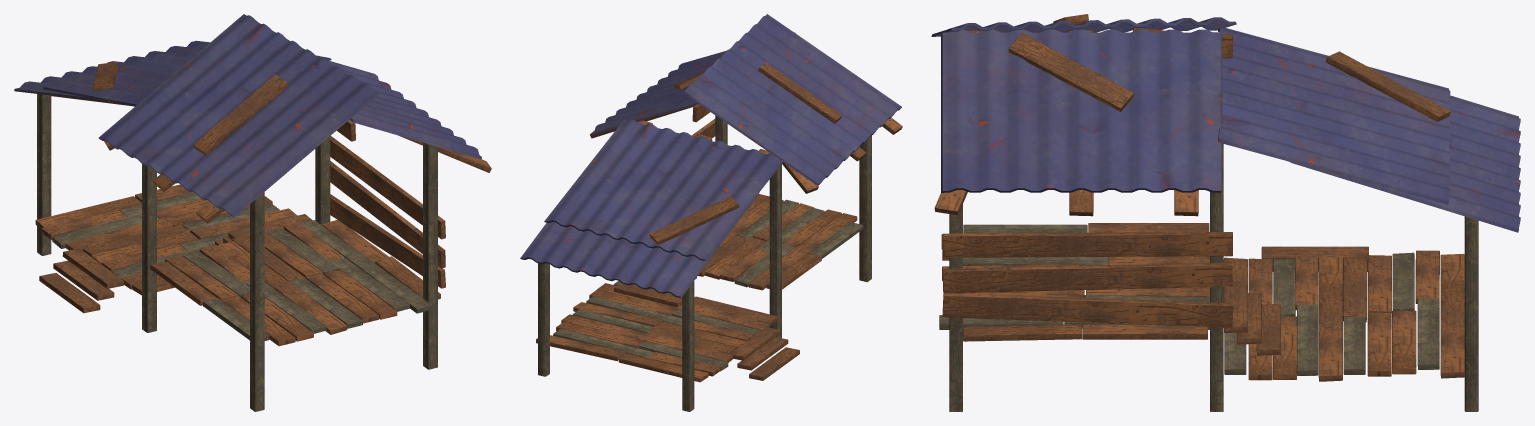
The model's file is Storage_A.fbx.
3 renders of one model, left to right at view 1: azimuth 30°, elevation 25°; view 2: azimuth 150°, elevation 25°; view 3: azimuth 270°, elevation 25°, orthographic. The views are drawn at different scales.
Parts seen in each view (by area): view 1: Cube.139, Cube.045, Cube.140, Cube.136, Cube.131, Cube.132, Cube.130, Cube.042, Cube.142, Cube.137, Cube.119, Cube.110 (+39 smaller); view 2: Cube.136, Cube.139, Cube.137, Cube.045, Cube.042, Cube.140, Cube.138, Cube.142, Cube.008, Cube.080, Cube.085, Cube.118 (+32 smaller); view 3: Cube.140, Cube.136, Cube.137, Cube.130, Cube.131, Cube.132, Cube.045, Cube.141, Cube.042, Cube.139, Cube.138, Cube.108 (+32 smaller).
Part boxes in pixels (x1=…): Cube.139: x1=98, y1=14, x2=379, y2=217; Cube.045: x1=142, y1=136, x2=437, y2=411; Cube.140: x1=326, y1=60, x2=481, y2=159; Cube.136: x1=43, y1=44, x2=331, y2=106; Cube.131: x1=330, y1=161, x2=445, y2=268; Cube.132: x1=330, y1=136, x2=445, y2=239; Cube.130: x1=330, y1=194, x2=445, y2=288; Cube.042: x1=37, y1=94, x2=51, y2=255; Cube.142: x1=193, y1=74, x2=288, y2=155; Cube.137: x1=14, y1=40, x2=209, y2=101; Cube.119: x1=274, y1=282, x2=347, y2=334; Cube.110: x1=330, y1=257, x2=409, y2=311; Cube.136: x1=544, y1=119, x2=782, y2=260; Cube.139: x1=683, y1=14, x2=901, y2=185; Cube.137: x1=520, y1=192, x2=759, y2=297; Cube.045: x1=715, y1=115, x2=871, y2=338; Cube.042: x1=538, y1=263, x2=694, y2=411; Cube.140: x1=592, y1=32, x2=795, y2=134; Cube.138: x1=649, y1=196, x2=739, y2=245; Cube.142: x1=758, y1=62, x2=842, y2=123; Cube.008: x1=618, y1=353, x2=708, y2=382; Cube.080: x1=536, y1=335, x2=625, y2=361; Cube.085: x1=553, y1=328, x2=654, y2=357; Cube.118: x1=705, y1=237, x2=766, y2=279; Cube.140: x1=941, y1=29, x2=1222, y2=192; Cube.136: x1=1218, y1=28, x2=1450, y2=204; Cube.137: x1=1290, y1=95, x2=1520, y2=232; Cube.130: x1=942, y1=293, x2=1233, y2=327; Cube.131: x1=942, y1=262, x2=1233, y2=293; Cube.132: x1=942, y1=232, x2=1232, y2=257; Cube.045: x1=949, y1=32, x2=1223, y2=411; Cube.141: x1=1008, y1=33, x2=1133, y2=111; Cube.042: x1=1464, y1=216, x2=1478, y2=411; Cube.139: x1=931, y1=17, x2=1236, y2=36; Cube.138: x1=1325, y1=51, x2=1450, y2=121; Cube.108: x1=1082, y1=324, x2=1207, y2=339.
Size of the model in its own units: 578 by 567 by 858.
